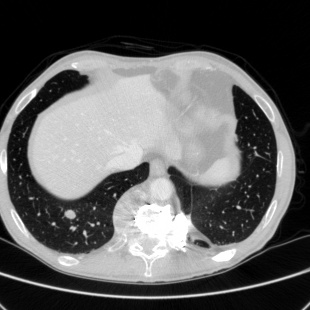PN: (65, 209, 75, 219)
